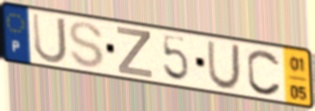5: (160, 32, 192, 83)
C: (245, 47, 284, 98)
S: (67, 20, 106, 70)
U: (30, 11, 69, 66), (205, 39, 242, 92)
Z: (115, 25, 155, 80)
